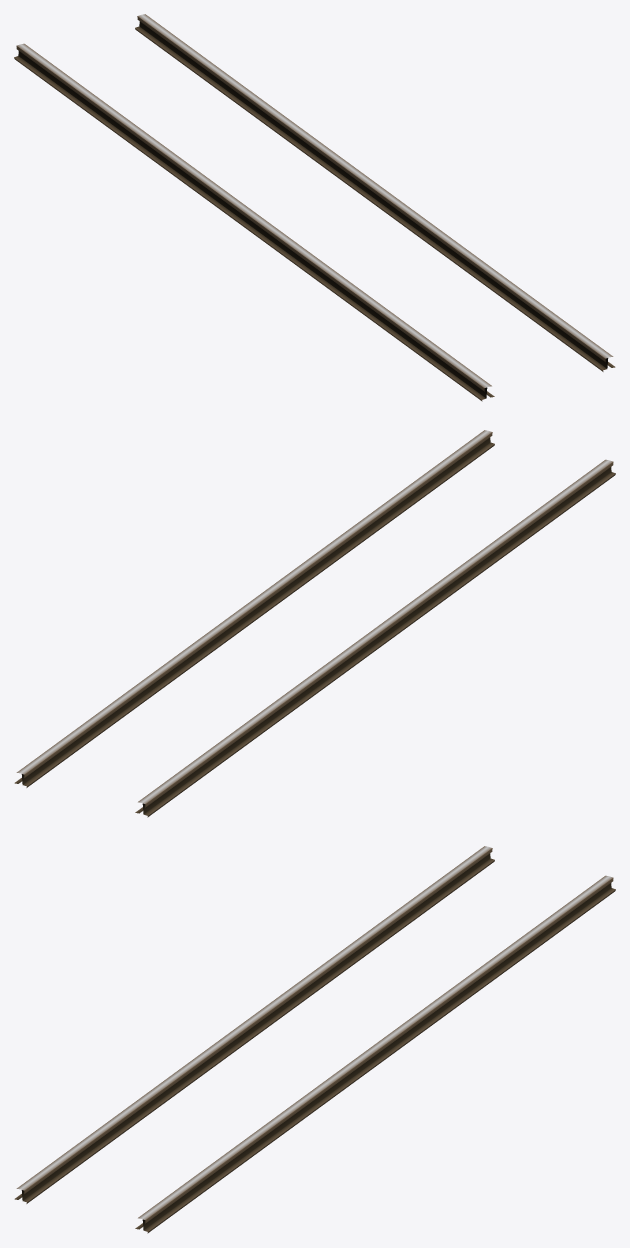
The model's file is 1RAIL_25.glb.
3 views of the same model, one above another, from view 1: azimuth 30°, elevation 25°; view 2: azimuth 150°, elevation 25°; view 3: azimuth 330°, elevation 25° (orthographic).
Visible parts, largest first — view 1: Rail; view 2: Rail; view 3: Rail.
Boxes of the visible parts, x1=… form: Rail: x1=14, y1=14, x2=615, y2=401; Rail: x1=14, y1=430, x2=615, y2=817; Rail: x1=14, y1=846, x2=615, y2=1233.
Bounding box in the file's own units: 4.13 × 0.3971 × 25.
